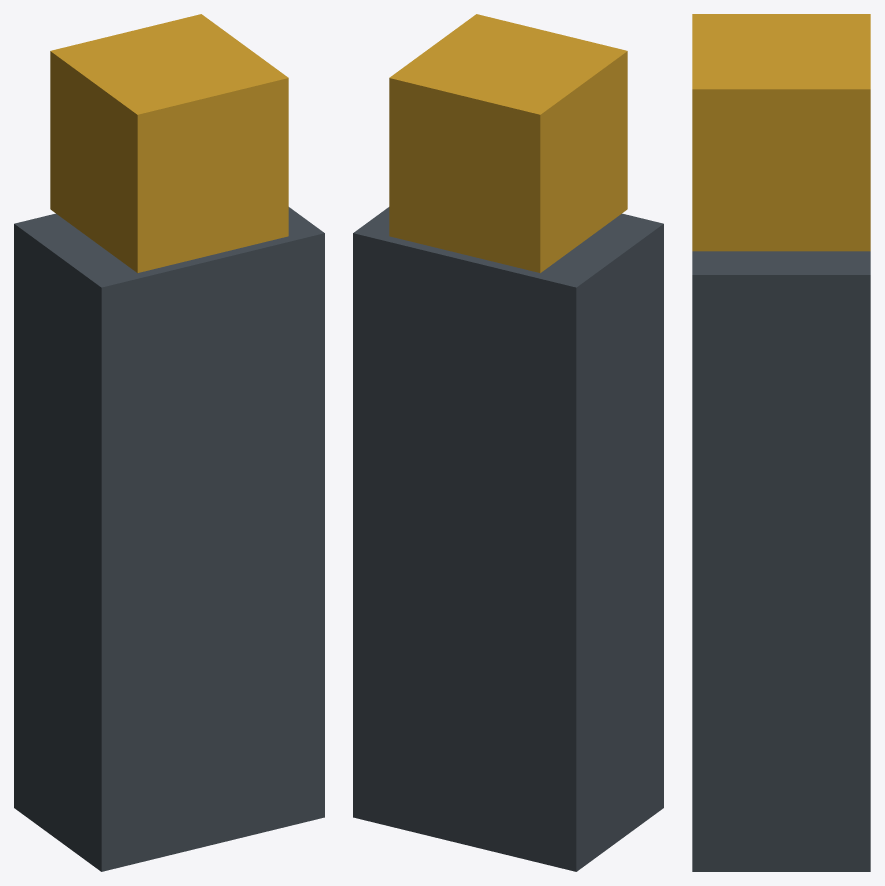
Rendered from prop.hostage_dummy.glb.
3 views of the same model, side by side, from view 1: azimuth 30°, elevation 25°; view 2: azimuth 150°, elevation 25°; view 3: azimuth 270°, elevation 25° (orthographic). The views are drawn at different scales.
Parts seen in each view (by area): view 1: dummy_body, dummy_head; view 2: dummy_body, dummy_head; view 3: dummy_body, dummy_head.
Boxes of the visible parts, box(x1,y1,x2,y2) form: dummy_body: box(14, 207, 324, 871); dummy_head: box(50, 14, 288, 272); dummy_body: box(353, 207, 663, 871); dummy_head: box(389, 14, 627, 272); dummy_body: box(692, 251, 870, 871); dummy_head: box(692, 14, 870, 251).
Size of the model in its own units: 0.62 by 1.98 by 0.42.
